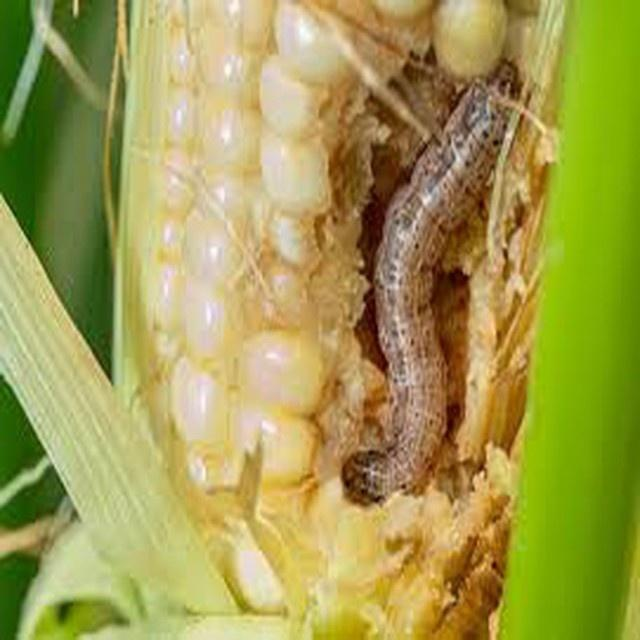gusano_cogollero: (352, 66, 520, 492)
